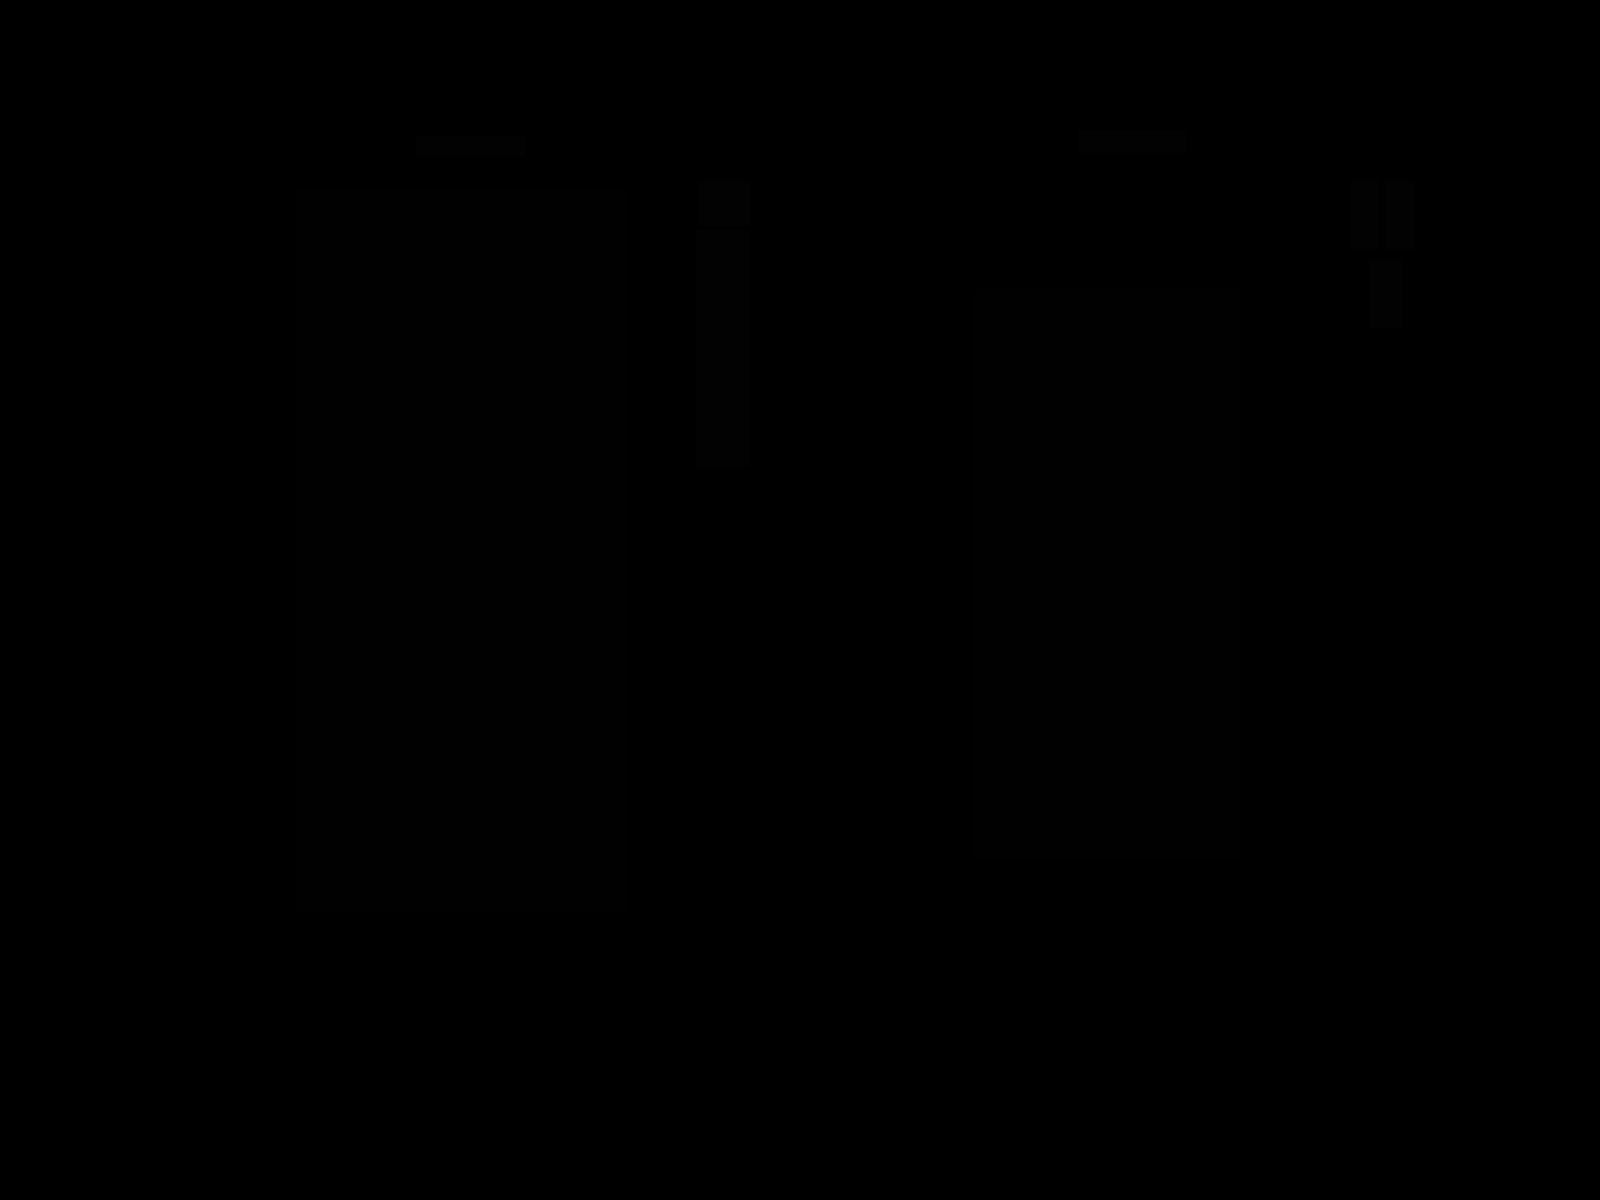1_overall: (84, 59, 1528, 1002)
3_typography: (695, 229, 750, 466), (1078, 130, 1187, 154), (1369, 258, 1403, 329), (416, 136, 525, 158), (1385, 182, 1414, 250), (1351, 182, 1380, 250)
4_illustration: (296, 189, 626, 913), (973, 290, 1240, 858)
5_stamp: (699, 182, 750, 224)
